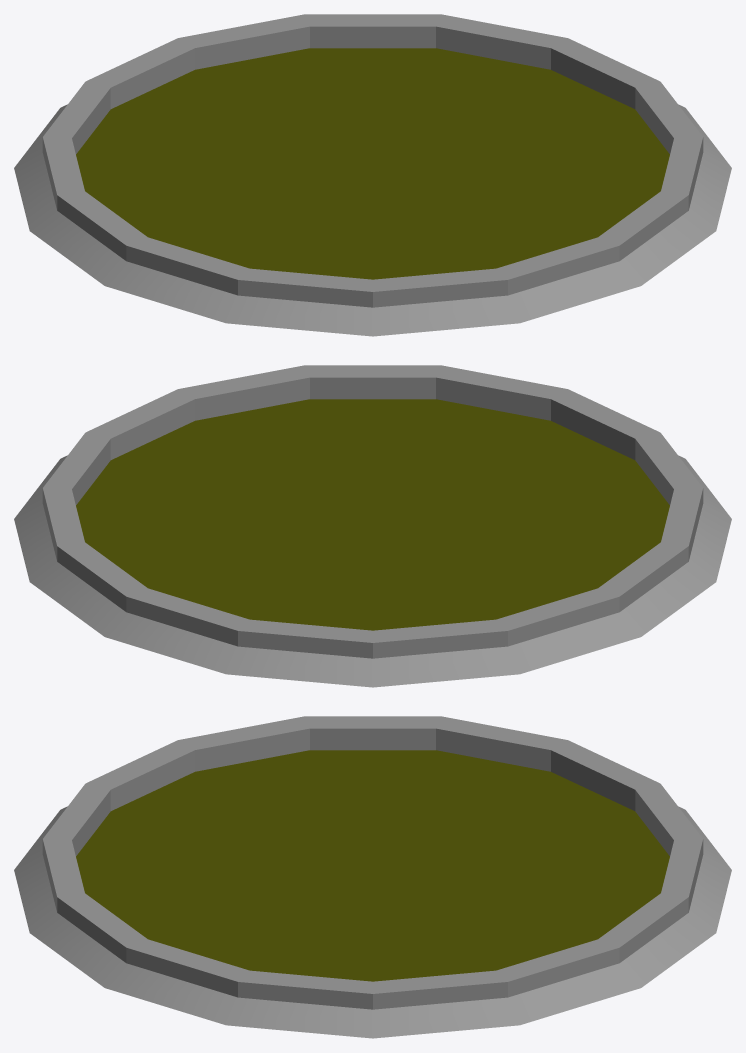
Rendered from casilla_2.FBX.
3 renders of one model, top to bottom at view 1: azimuth 30°, elevation 25°; view 2: azimuth 150°, elevation 25°; view 3: azimuth 270°, elevation 25°, orthographic.
Visible parts, largest first — view 1: Cylinder001; view 2: Cylinder001; view 3: Cylinder001.
Boxes of the visible parts, left/top/right/bottom form: Cylinder001: left=14, top=14, right=731, bottom=336; Cylinder001: left=14, top=365, right=731, bottom=687; Cylinder001: left=14, top=716, right=731, bottom=1038.
Size of the model in its own units: 369 by 18.44 by 371.
